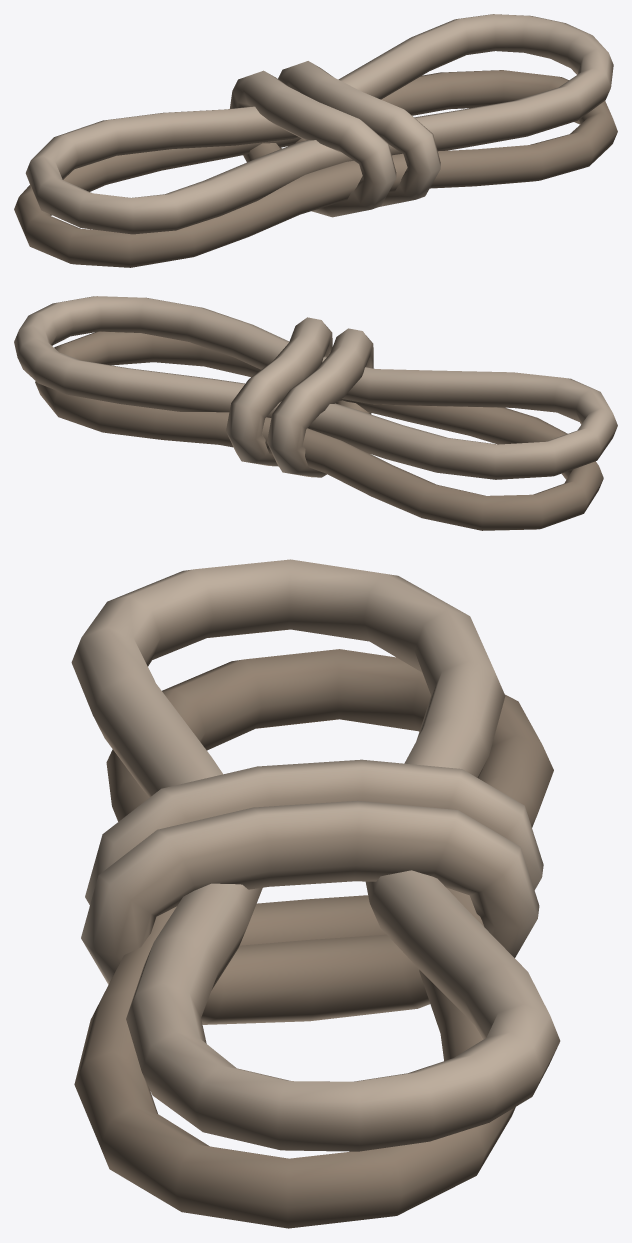
File: rope_bundle_a.glb
3 renders of one model, top to bottom at view 1: azimuth 30°, elevation 25°; view 2: azimuth 150°, elevation 25°; view 3: azimuth 270°, elevation 25°, orthographic. The views are drawn at different scales.
Visible parts, largest first — view 1: rope_bundle_A; view 2: rope_bundle_A; view 3: rope_bundle_A.
Boxes of the visible parts, x1,y1,x2,y2 form: rope_bundle_A: [14, 14, 617, 267]; rope_bundle_A: [14, 296, 617, 530]; rope_bundle_A: [71, 559, 560, 1228].
Bounding box in the file's own units: 0.837 × 0.1511 × 0.3161.
1 material, 1 textured.
